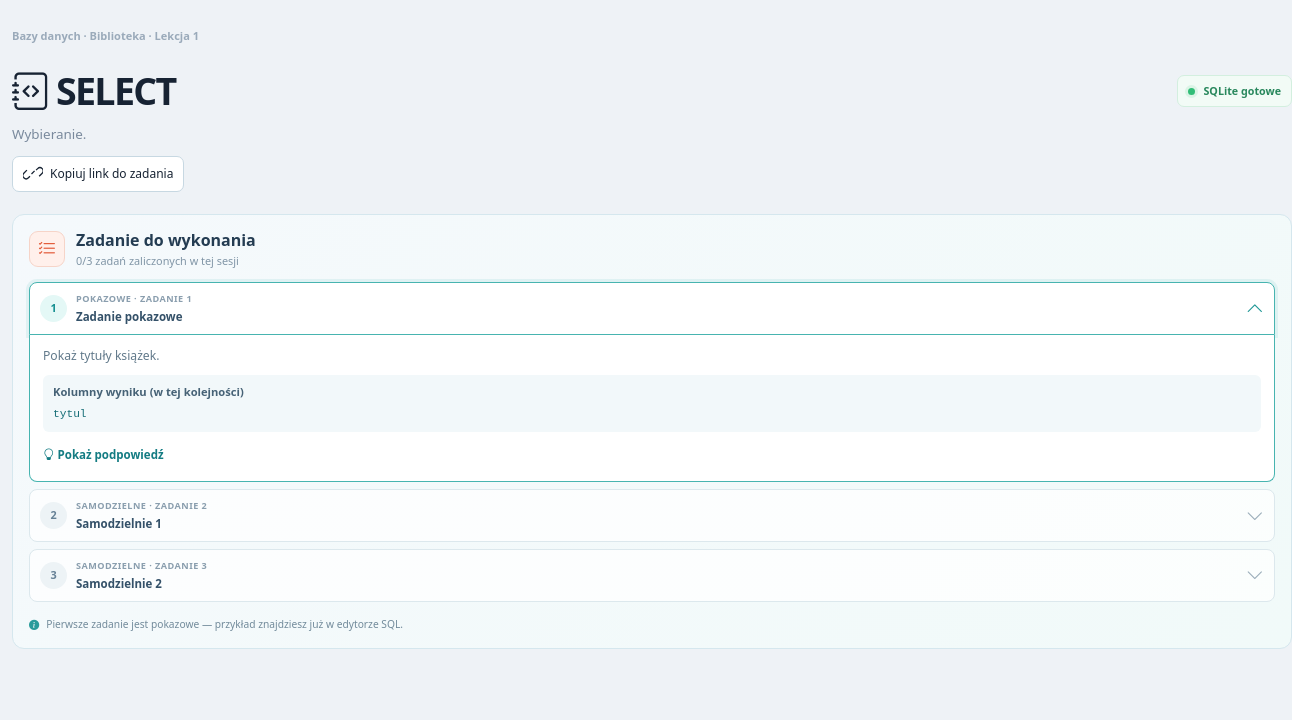
Test case: LessonPanel › lets the student collapse and reopen the active task
Click the button "1 Pokazowe · Zadanie 1 Zadanie pokazowe": (104, 299) [29,282,1275,335]
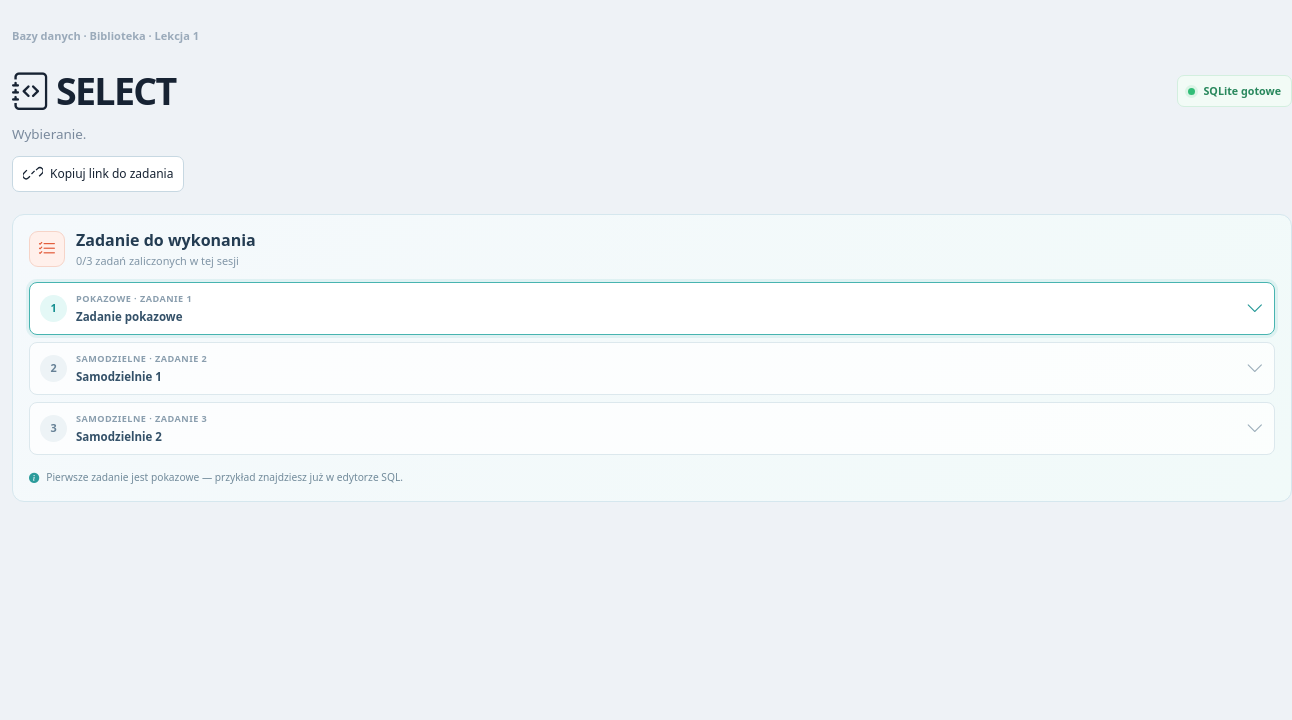
Now the button "1 Pokazowe · Zadanie 1 Zadanie pokazowe" is collapsed
Now the text "Pokaż tytuły książek." is gone
Click the button "1 Pokazowe · Zadanie 1 Zadanie pokazowe": (104, 299) [29,282,1275,335]
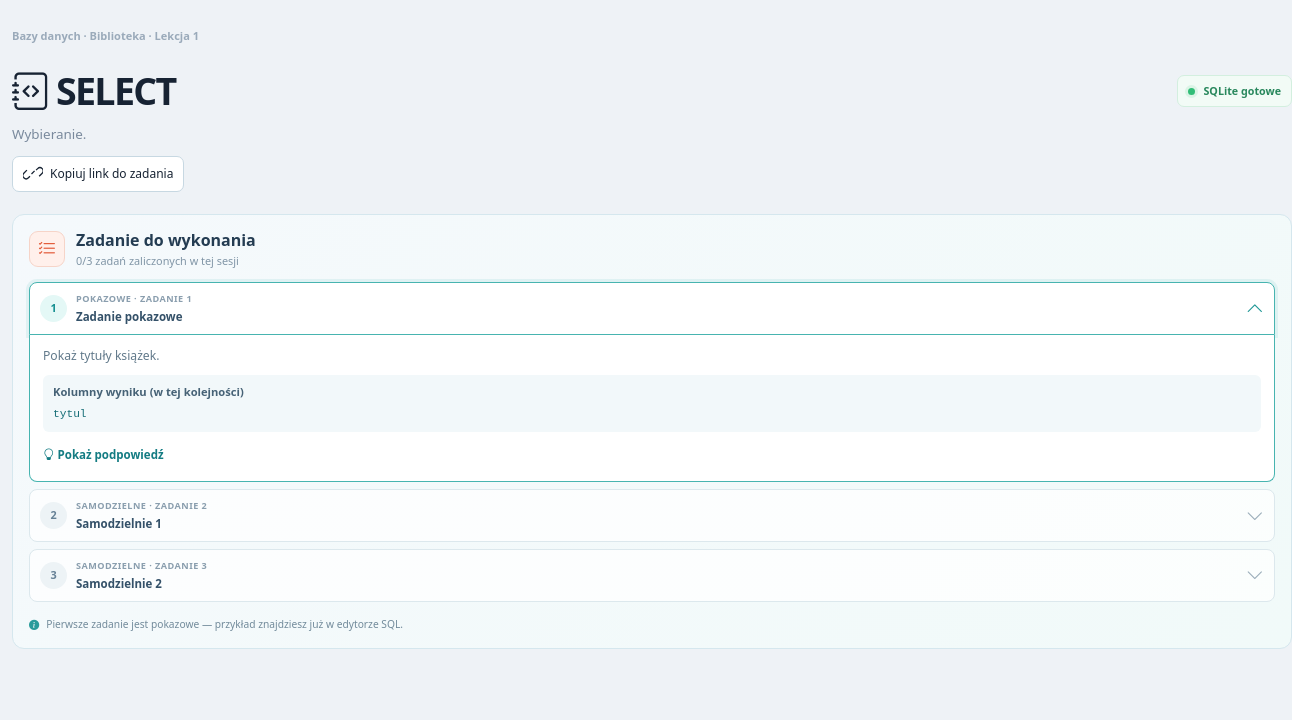
Now the button "1 Pokazowe · Zadanie 1 Zadanie pokazowe" is expanded, box [29,282,1275,335]
Now the text "Pokaż tytuły książek." is shown, box [43,347,160,364]
